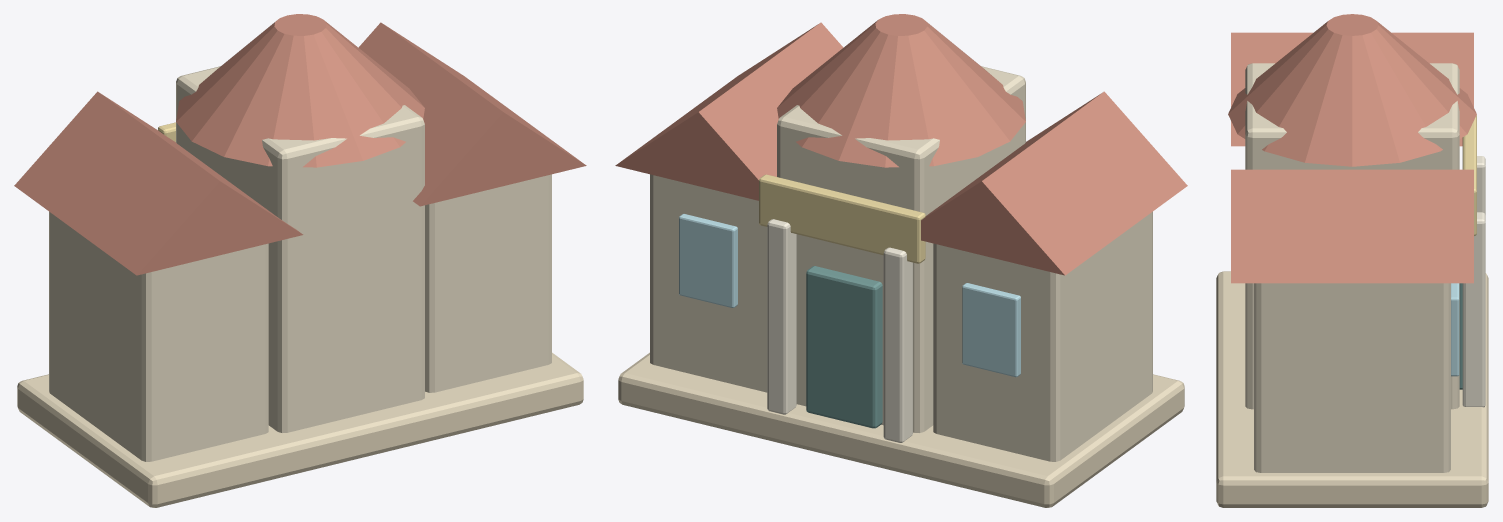
Rendered from entrance.glb.
The picture shows the model from 3 angles, left to right: view 1: azimuth 30°, elevation 25°; view 2: azimuth 150°, elevation 25°; view 3: azimuth 270°, elevation 25°; orthographic projection.
Visible parts, largest first — view 1: tower, wing_-0.56, roof_-0.56, plinth, wing_0.56, tower_roof, roof_0.56; view 2: wing_-0.56, roof_-0.56, plinth, tower_roof, tower, wing_0.56, roof_0.56, door, zoo_sign, column_-0.23, column_0.23, window_-0.56 (+1 smaller); view 3: wing_0.56, roof_0.56, tower_roof, plinth, tower, roof_-0.56, column_0.23, window_0.56, zoo_sign, column_-0.23, door.
Part boxes in pixels (x1=…): tower: x1=176, y1=66, x2=424, y2=432; wing_-0.56: x1=49, y1=211, x2=268, y2=461; roof_-0.56: x1=14, y1=91, x2=303, y2=275; plinth: x1=17, y1=352, x2=583, y2=507; wing_0.56: x1=425, y1=174, x2=551, y2=392; tower_roof: x1=176, y1=14, x2=424, y2=167; roof_0.56: x1=358, y1=22, x2=586, y2=206; wing_-0.56: x1=933, y1=211, x2=1152, y2=461; roof_-0.56: x1=921, y1=91, x2=1187, y2=275; plinth: x1=618, y1=352, x2=1184, y2=507; tower_roof: x1=777, y1=14, x2=1025, y2=167; tower: x1=777, y1=66, x2=1025, y2=432; wing_0.56: x1=650, y1=174, x2=767, y2=392; roof_0.56: x1=615, y1=22, x2=843, y2=200; door: x1=806, y1=266, x2=882, y2=428; zoo_sign: x1=759, y1=174, x2=925, y2=263; column_-0.23: x1=883, y1=247, x2=912, y2=442; column_0.23: x1=767, y1=219, x2=796, y2=414; window_-0.56: x1=962, y1=283, x2=1020, y2=377; wing_0.56: x1=1254, y1=283, x2=1450, y2=472; roof_0.56: x1=1231, y1=169, x2=1473, y2=283; tower_roof: x1=1228, y1=14, x2=1476, y2=166; plinth: x1=1216, y1=271, x2=1488, y2=507; tower: x1=1245, y1=63, x2=1459, y2=409; roof_-0.56: x1=1231, y1=32, x2=1473, y2=146; column_0.23: x1=1462, y1=212, x2=1485, y2=407; window_0.56: x1=1451, y1=283, x2=1459, y2=376; zoo_sign: x1=1462, y1=115, x2=1476, y2=235; column_-0.23: x1=1477, y1=156, x2=1485, y2=214; door: x1=1459, y1=283, x2=1462, y2=389.
Size of the model in its own units: 1.78 by 1.45 by 0.94.
